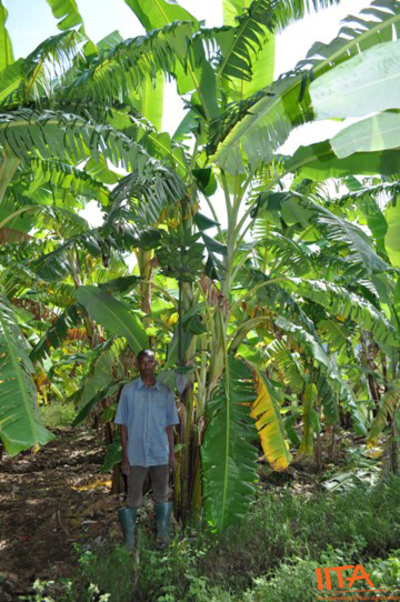bananaHand: (155, 219, 208, 283)
